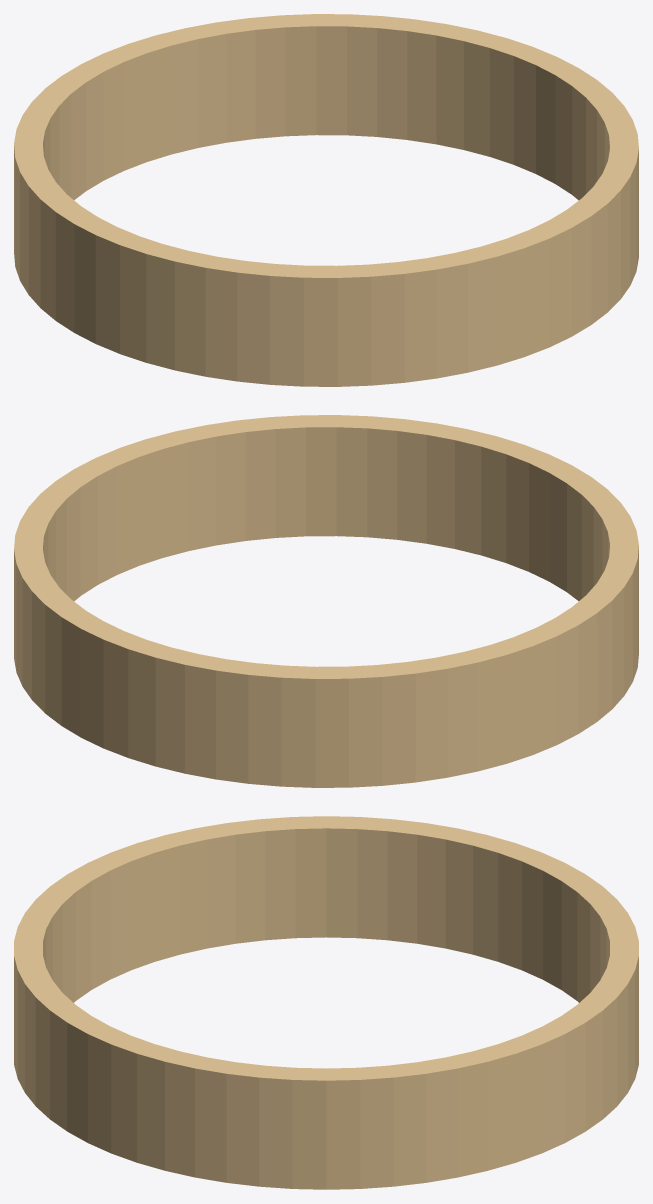
The model's file is alternator-slip-ring-2.glb.
3 views of the same model, one above another, from view 1: azimuth 30°, elevation 25°; view 2: azimuth 150°, elevation 25°; view 3: azimuth 270°, elevation 25° (orthographic).
Parts seen in each view (by area): view 1: world; view 2: world; view 3: world.
Part boxes in pixels (left/top/right/bottom): world: left=14, top=14, right=638, bottom=386; world: left=14, top=415, right=638, bottom=787; world: left=14, top=816, right=638, bottom=1189.
Size of the model in its own units: 0.026 by 0.005 by 0.026.
